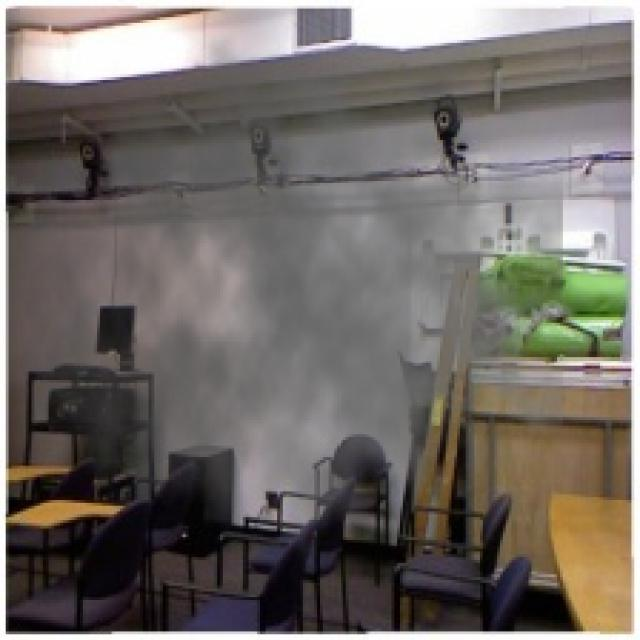smoke: (20, 31, 563, 588)
